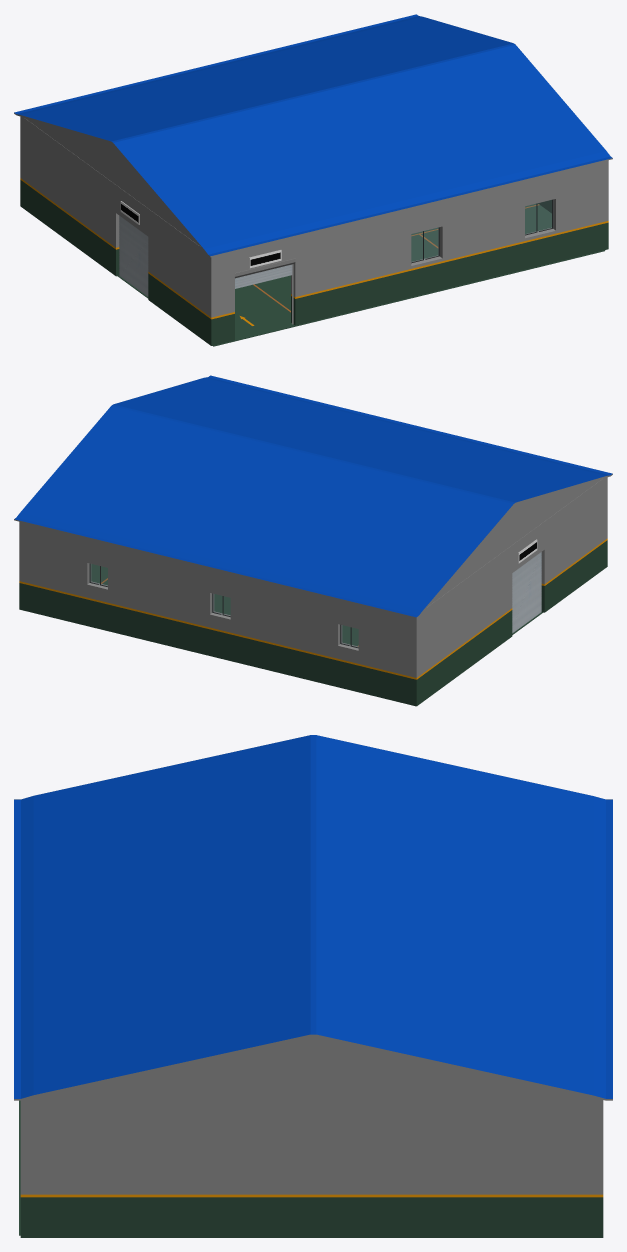
The model's file is CK_WJ_cheku_01.FBX.
3 renders of one model, top to bottom at view 1: azimuth 30°, elevation 25°; view 2: azimuth 150°, elevation 25°; view 3: azimuth 270°, elevation 25°, orthographic. The views are drawn at different scales.
Visible parts, largest first — view 1: CK_WJ_wuding_01, CK_WJ_qiangmian_01, CK_WJ_dimian_01, CK_WJ_juanzhamen_01, CK_WJ_chuanghu_01, CK_WJ_wuding_02, CK_WJ_juanzhamen_02, CK_WJ_qiangmian_02; view 2: CK_WJ_wuding_01, CK_WJ_qiangmian_01, CK_WJ_juanzhamen_01, CK_WJ_wuding_02, CK_WJ_chuanghu_01, CK_WJ_dimian_01, CK_WJ_qiangmian_02; view 3: CK_WJ_wuding_01, CK_WJ_qiangmian_01, CK_WJ_wuding_02.
Boxes of the visible parts, <box> form: CK_WJ_wuding_01: <box>14,14,612,256</box>; CK_WJ_qiangmian_01: <box>20,116,608,345</box>; CK_WJ_dimian_01: <box>117,203,605,346</box>; CK_WJ_juanzhamen_01: <box>119,216,148,296</box>; CK_WJ_chuanghu_01: <box>411,199,552,263</box>; CK_WJ_wuding_02: <box>14,44,612,257</box>; CK_WJ_juanzhamen_02: <box>234,258,295,324</box>; CK_WJ_qiangmian_02: <box>116,199,555,325</box>; CK_WJ_wuding_01: <box>14,375,612,617</box>; CK_WJ_qiangmian_01: <box>19,477,607,706</box>; CK_WJ_juanzhamen_01: <box>512,552,541,633</box>; CK_WJ_wuding_02: <box>14,473,612,618</box>; CK_WJ_chuanghu_01: <box>89,563,358,648</box>; CK_WJ_dimian_01: <box>91,564,542,646</box>; CK_WJ_qiangmian_02: <box>87,550,544,650</box>; CK_WJ_wuding_01: <box>14,735,612,1098</box>; CK_WJ_qiangmian_01: <box>20,1098,603,1237</box>; CK_WJ_wuding_02: <box>14,737,612,1100</box>.
Bounding box in the file's own units: 2330 × 746 × 1969.
